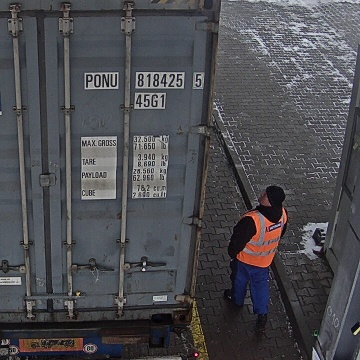serial_id: (85, 73, 202, 87)
